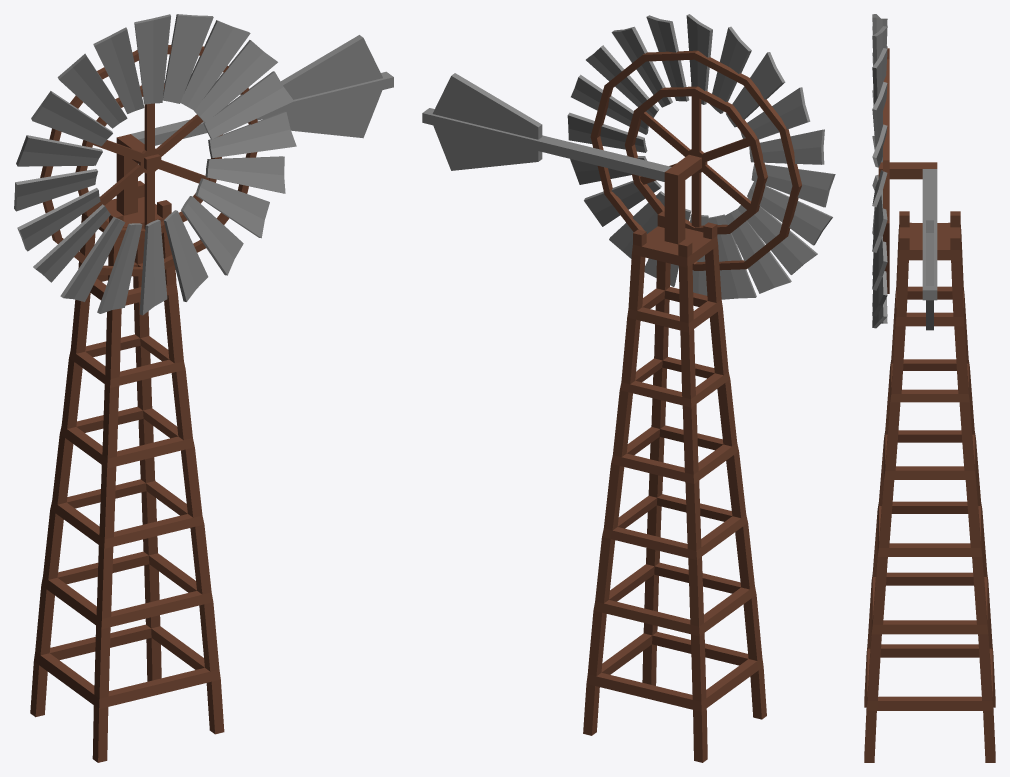
The model's file is Windmill.glb.
3 views of the same model, side by side, from view 1: azimuth 30°, elevation 25°; view 2: azimuth 150°, elevation 25°; view 3: azimuth 270°, elevation 25° (orthographic). The views are drawn at different scales.
Parts seen in each view (by area): view 1: Windmill_Body, Blades; view 2: Windmill_Body, Blades; view 3: Windmill_Body, Blades.
Boxes of the visible parts, <box> form: Windmill_Body: <box>30,35,393,762</box>; Blades: <box>14,14,296,315</box>; Windmill_Body: <box>422,73,766,762</box>; Blades: <box>567,14,835,299</box>; Windmill_Body: <box>864,162,995,762</box>; Blades: <box>872,14,889,328</box>.
Bounding box in the file's own units: 6.51 × 11.2 × 1.9.
